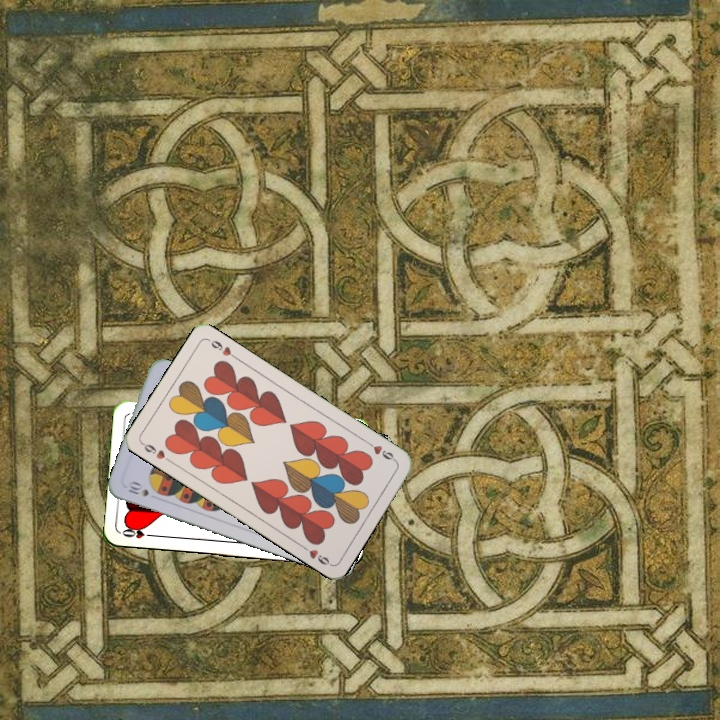H9: (363, 437, 399, 465), (138, 439, 174, 465)
HO: (118, 524, 159, 541)
S10: (124, 478, 152, 500)
